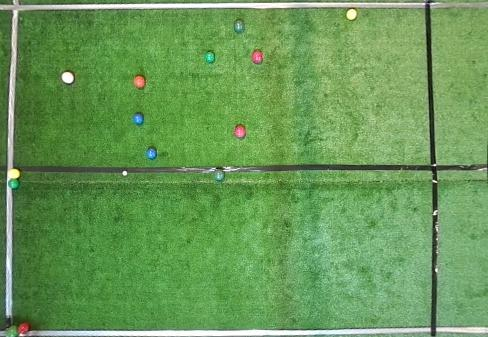blue: (133, 113, 144, 125), (147, 148, 157, 159)
green: (234, 19, 245, 33), (6, 326, 20, 336), (214, 169, 225, 181), (205, 51, 215, 63), (8, 179, 20, 189)
red: (61, 72, 75, 84), (134, 76, 146, 89), (235, 125, 246, 139), (252, 51, 263, 64), (18, 323, 29, 334)
vline: (424, 0, 487, 336), (0, 0, 19, 169), (0, 190, 13, 324)
white: (123, 171, 127, 176)
yellow: (346, 9, 357, 21), (8, 169, 20, 179)
